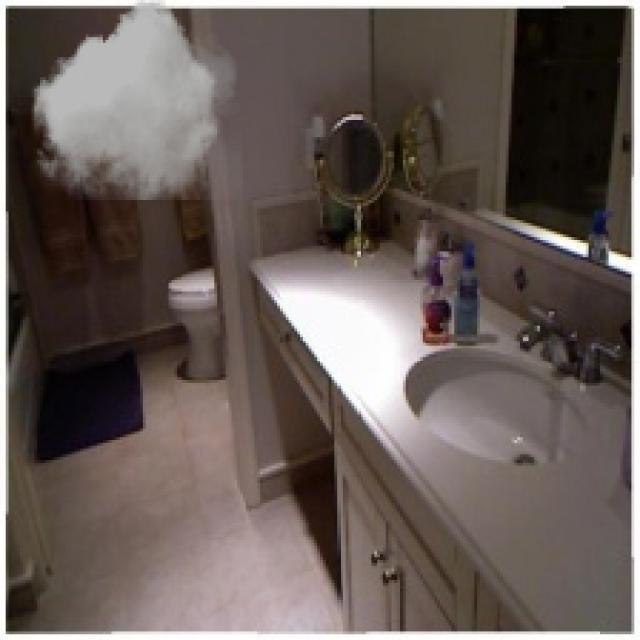Smoke: (28, 0, 243, 200)
